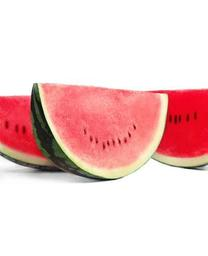watermelon: (31, 81, 172, 182)
